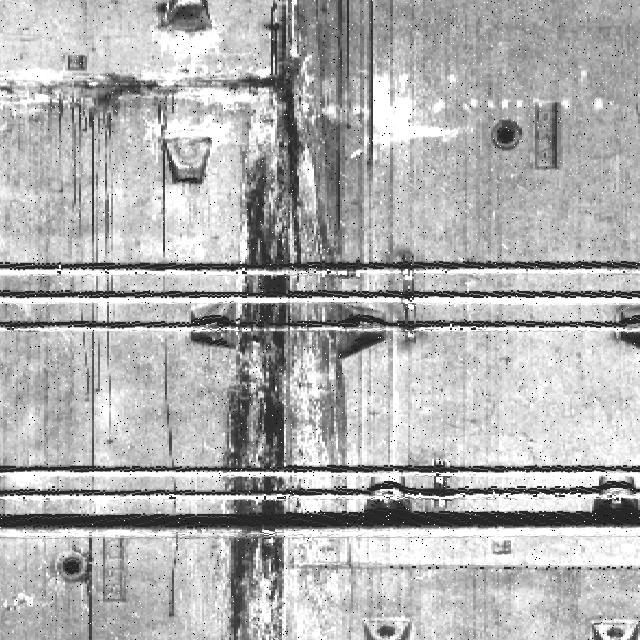leakage: (186, 1, 365, 637), (48, 69, 179, 466)
